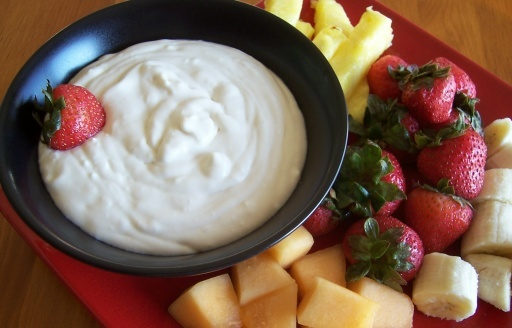background: (134, 0, 409, 168), (26, 19, 246, 131)
